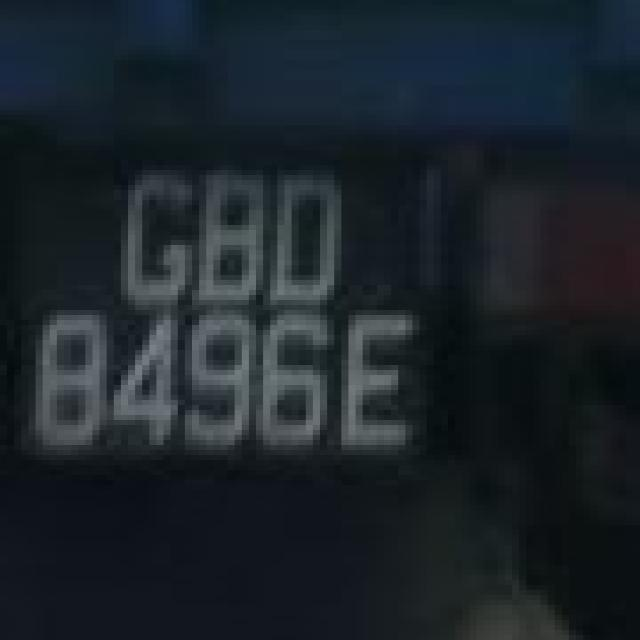4: (115, 308, 183, 454)
6: (261, 310, 330, 454)
8: (27, 307, 111, 452)
9: (182, 308, 258, 454)
B: (198, 166, 268, 304)
D: (270, 166, 348, 304)
E: (341, 310, 424, 452)
G: (116, 168, 198, 303)
